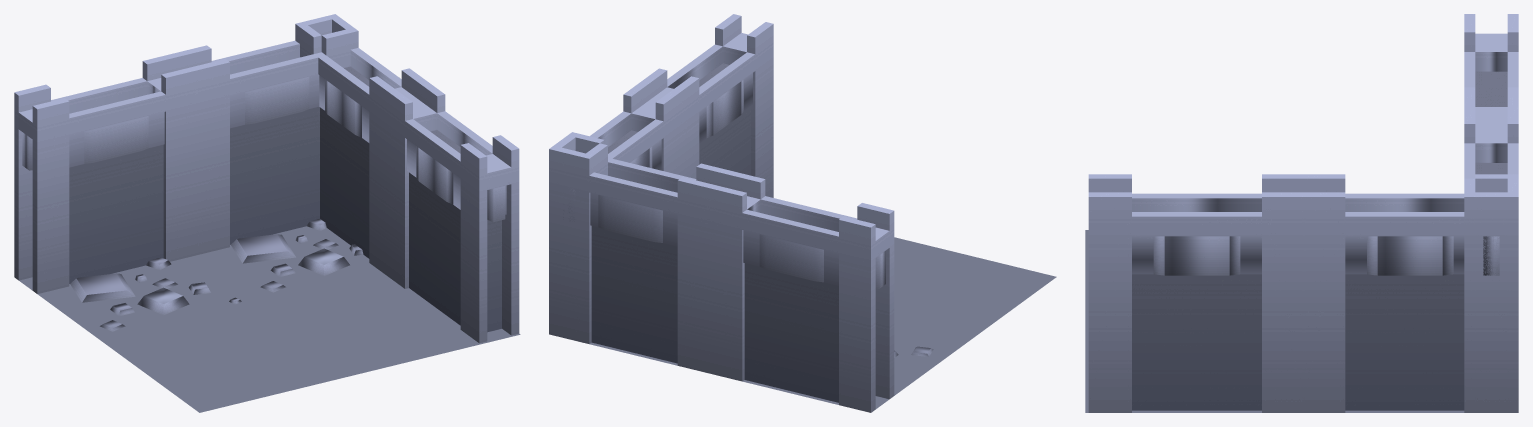
File: Tile_3.glb
3 renders of one model, left to right at view 1: azimuth 30°, elevation 25°; view 2: azimuth 150°, elevation 25°; view 3: azimuth 270°, elevation 25°, orthographic. The views are drawn at different scales.
Parts seen in each view (by area): view 1: tile_3; view 2: tile_3; view 3: tile_3.
Part boxes in pixels (x1=…): tile_3: x1=14, y1=14, x2=520, y2=412; tile_3: x1=549, y1=14, x2=1056, y2=412; tile_3: x1=1085, y1=14, x2=1518, y2=412.
Bounding box in the file's own units: 2 × 1.1 × 2.
Materials: 14 (14 with a texture image).
